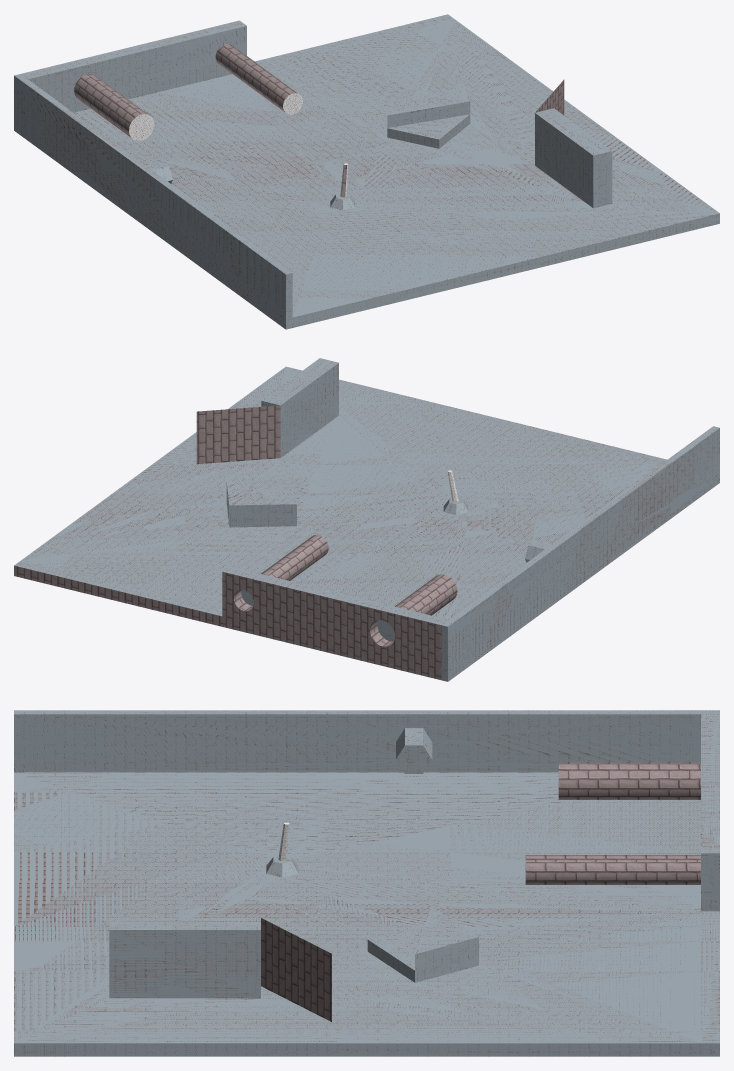
Rendered from mapa_pruebas.obj.
3 renders of one model, top to bottom at view 1: azimuth 30°, elevation 25°; view 2: azimuth 150°, elevation 25°; view 3: azimuth 270°, elevation 25°, orthographic. The views are drawn at different scales.
Visible parts, largest first — view 1: Mesh1 Model; view 2: Mesh1 Model; view 3: Mesh1 Model.
Part boxes in pixels (x1,y1,x2,y2): Mesh1 Model: [14, 14, 719, 329]; Mesh1 Model: [14, 358, 719, 681]; Mesh1 Model: [14, 710, 719, 1056].
Size of the model in its own units: 54.82 by 7.62 by 59.48.
3 materials, 1 textured.
